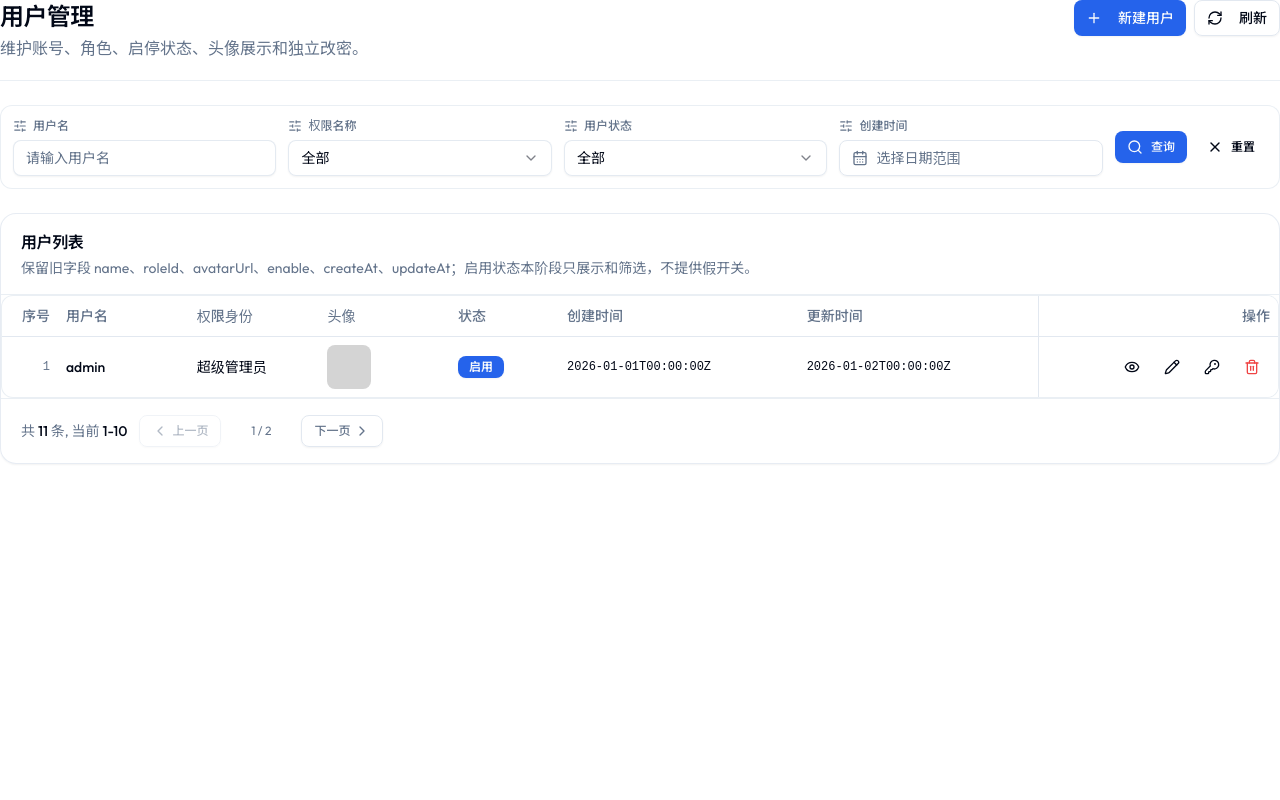
Test case: UsersList › validates required old user fields before creating
Expected: the text "admin" is shown, [58,336,189,396]
Click the button "新建用户". click: [1130, 18]
box: [1074,0,1186,36]
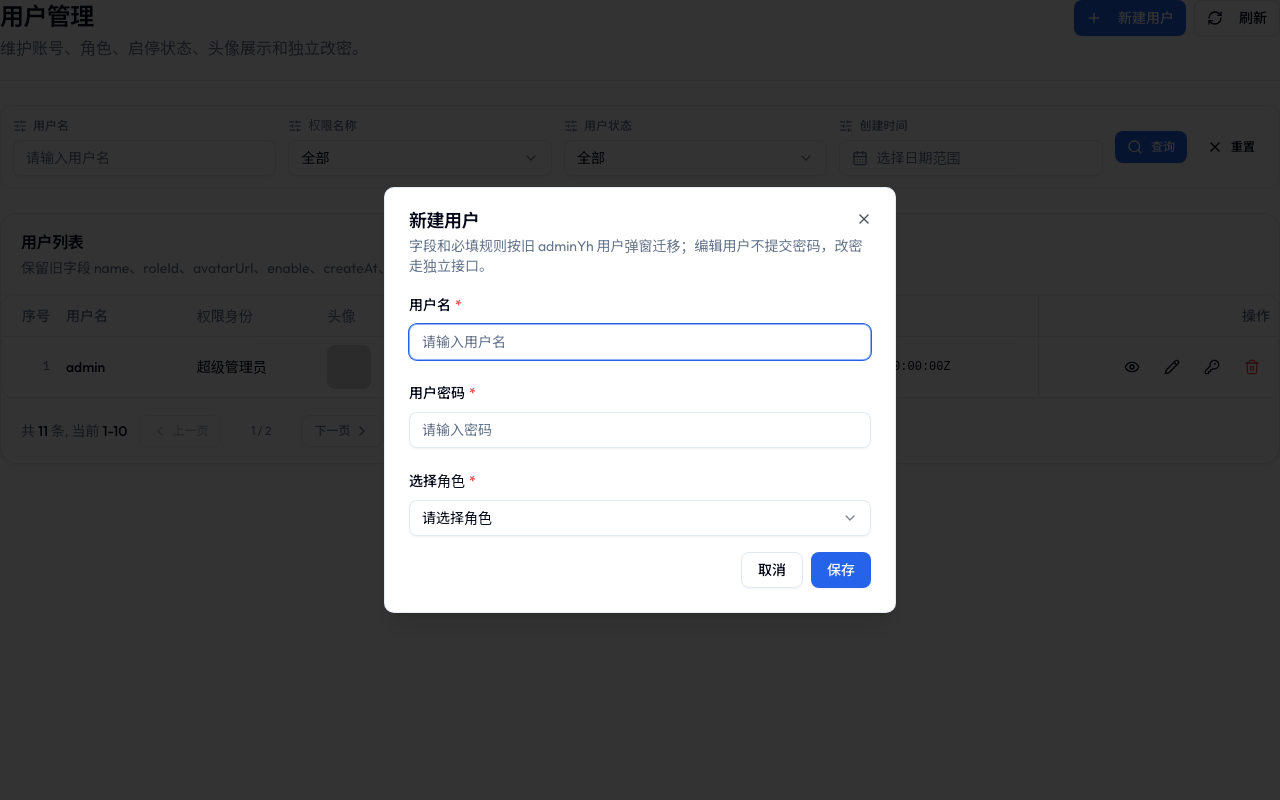
Click the button "保存". click: [841, 570]
box: [811,552,871,588]
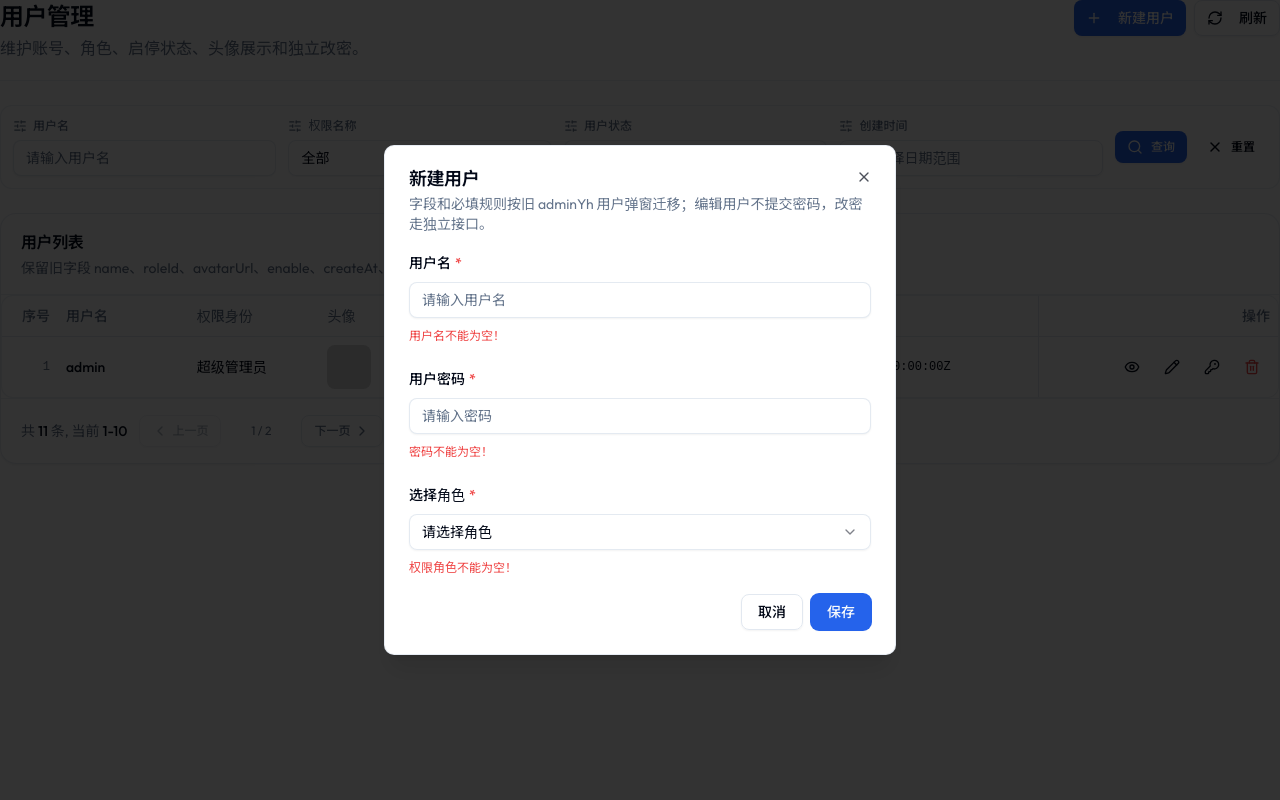
Now the text "用户名不能为空！" is shown, box [409,328,505,343]
Now the text "密码不能为空！" is shown, box [409,444,493,459]
Now the text "权限角色不能为空！" is shown, box [409,560,517,575]
